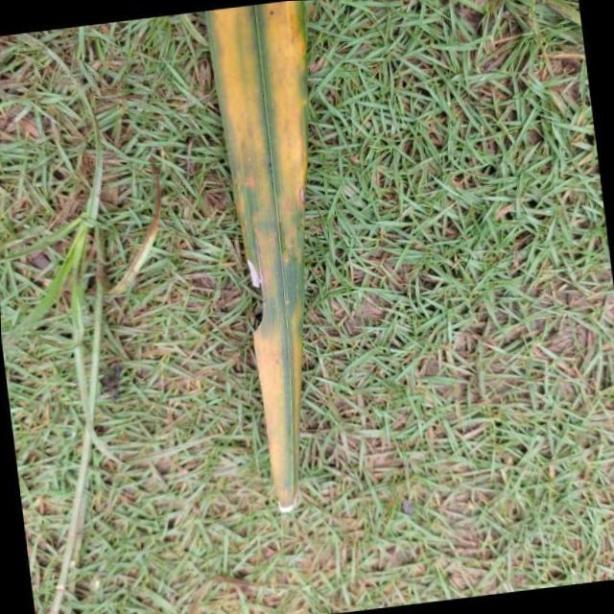Megnesium: (202, 0, 311, 529)
